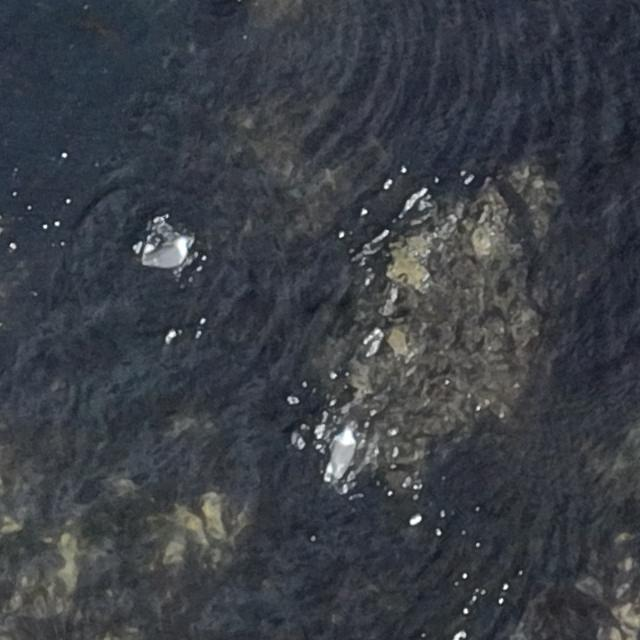umineko: (141, 231, 191, 269), (332, 434, 354, 476)
